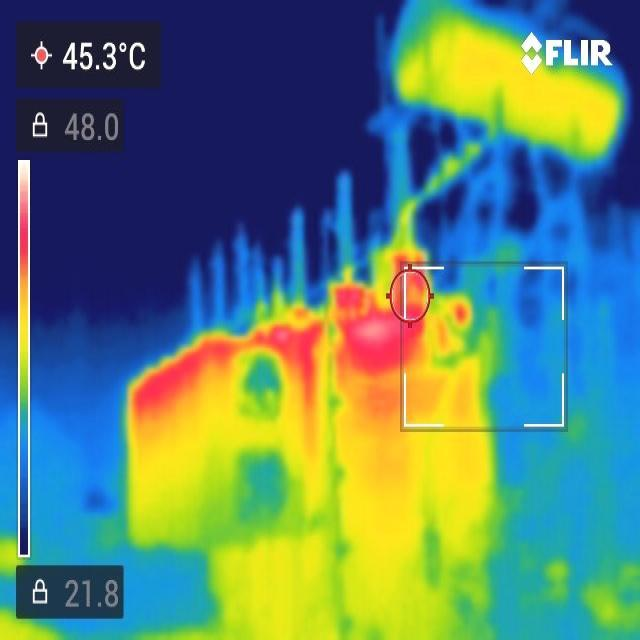Loose Joint -Faulty: (112, 298, 455, 442)
Loose Joint -Potential: (146, 451, 472, 628), (395, 3, 631, 161)
